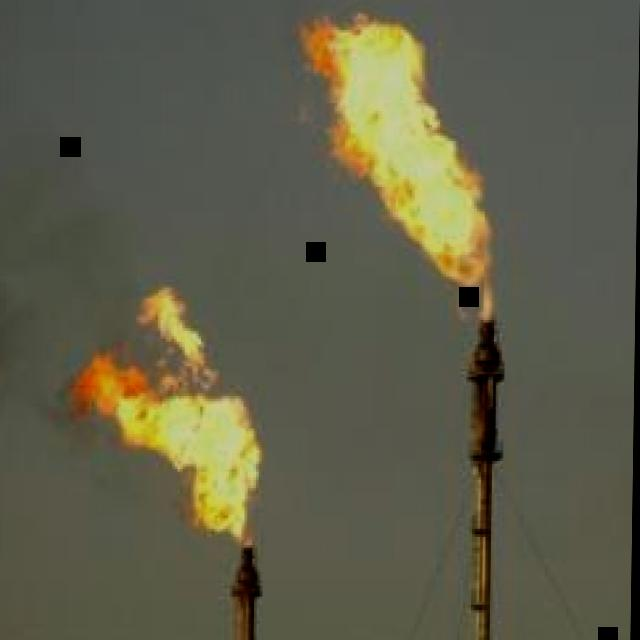fire: (297, 14, 499, 316), (74, 291, 261, 553)
smoke: (0, 276, 106, 458)
